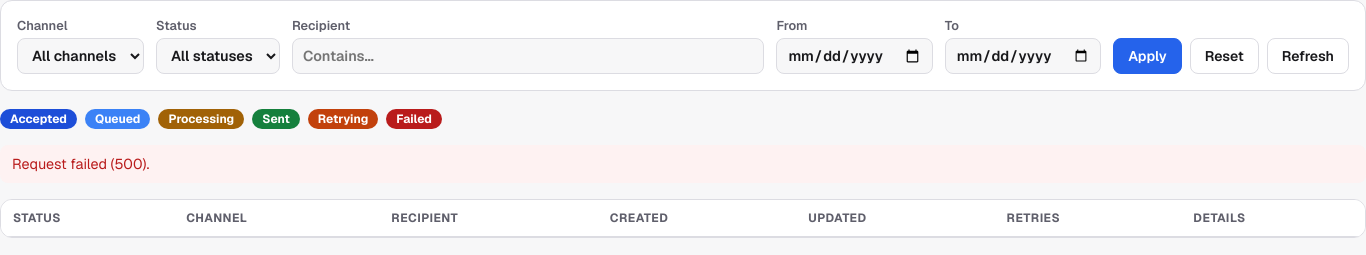
NotificationLog › shows generic and network errors
Expected: the message reads "Request failed (500).", [12,155,149,173]
What coordinates should you click on to do the following:
click the button "Refresh"
I would click on:
 (1308, 56)
Its box is [1267,38,1349,74].
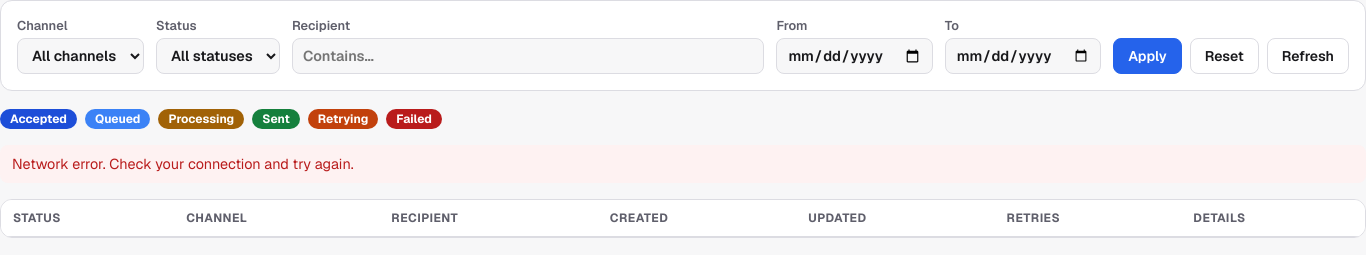
Expected: the message shows "Network error.", [12,155,354,173]
